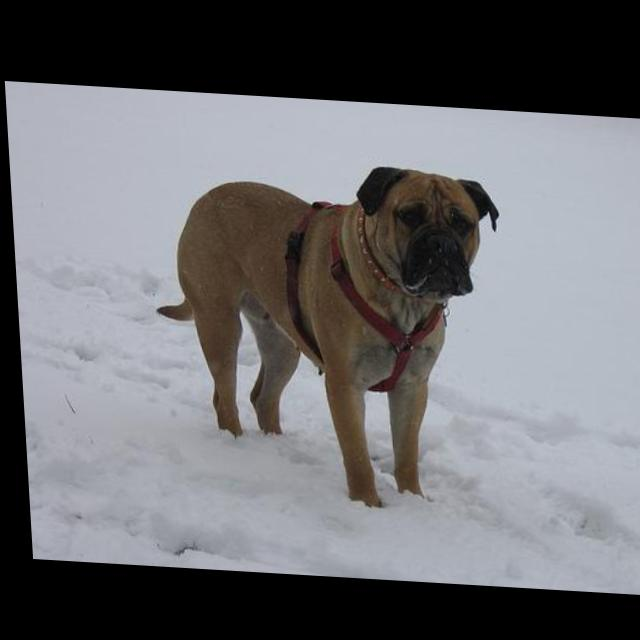bullmastiff: (148, 150, 514, 511)
